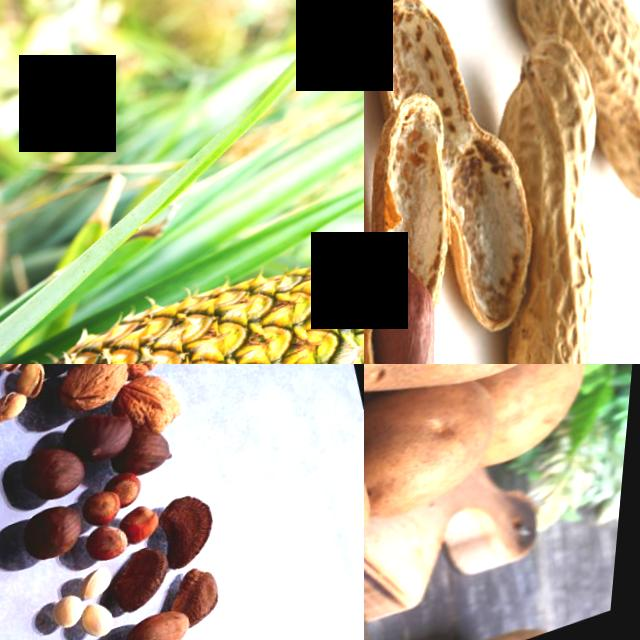peanuts: (484, 29, 640, 278), (545, 0, 640, 272), (364, 249, 490, 364), (495, 280, 640, 364)
pineapple: (0, 190, 364, 364)
potato: (364, 372, 524, 534), (364, 364, 574, 445)
